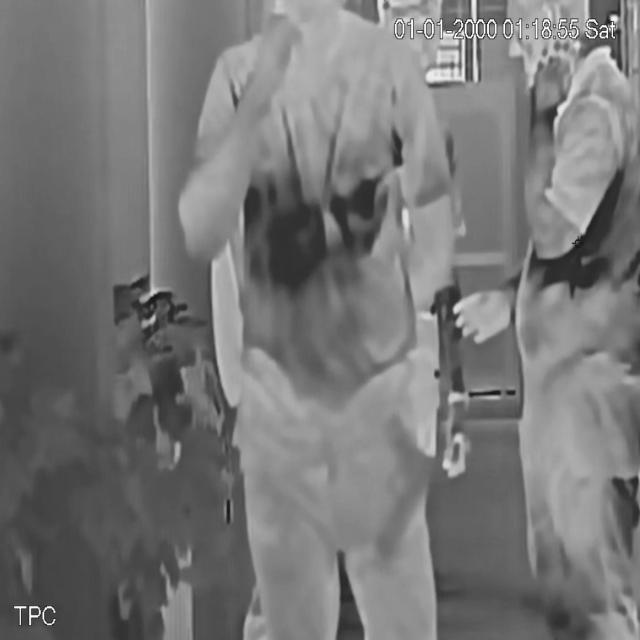Weapon: (358, 403, 443, 561)
